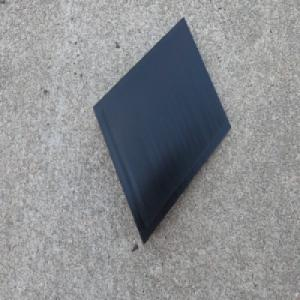PlasticPart: (92, 17, 231, 245)
